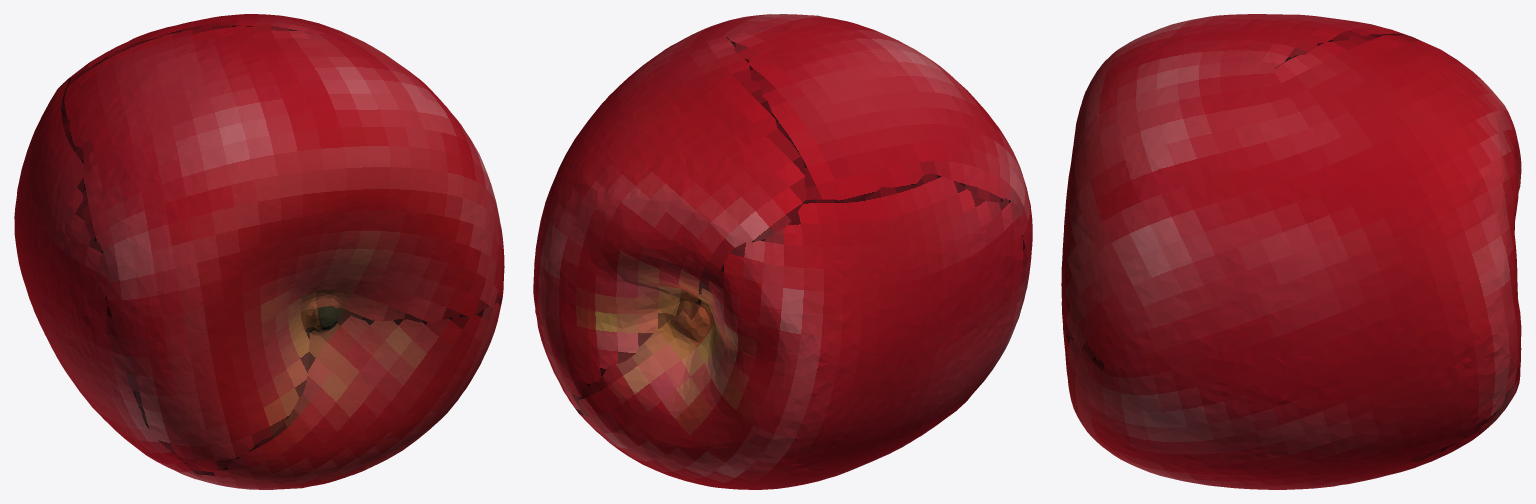
3 views of the same model, side by side, from view 1: azimuth 30°, elevation 25°; view 2: azimuth 150°, elevation 25°; view 3: azimuth 270°, elevation 25° (orthographic). The views are drawn at different scales.
Visible parts, largest first — view 1: textured; view 2: textured; view 3: textured.
Boxes of the visible parts, x1=… form: textured: x1=14, y1=14, x2=504, y2=489; textured: x1=533, y1=14, x2=1032, y2=489; textured: x1=1061, y1=14, x2=1521, y2=489.
Size of the model in its own units: 0.0754 by 0.0749 by 0.0719.
Materials: 1 (1 with a texture image).
